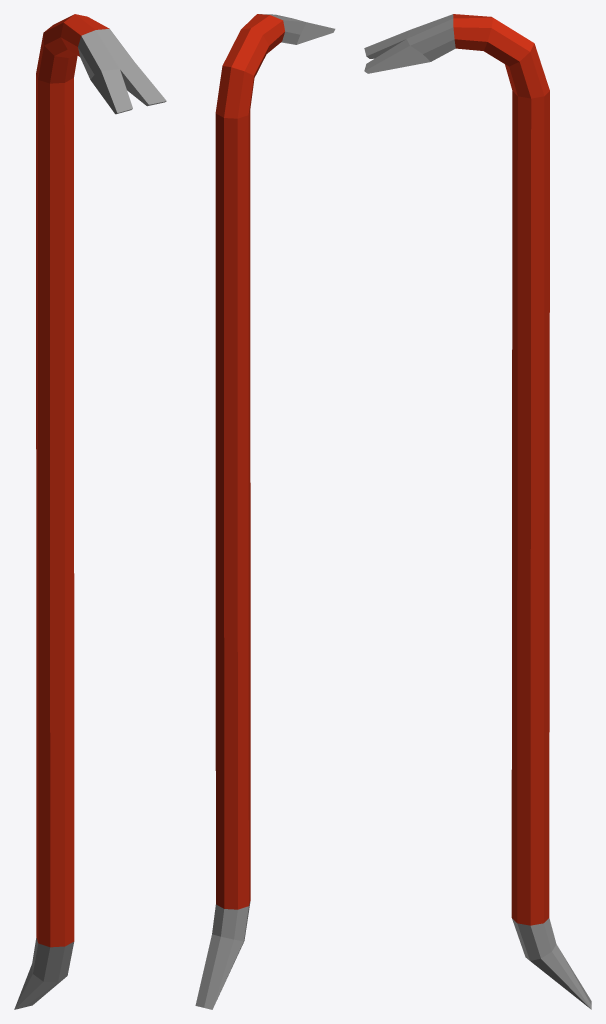
The model's file is crowbar_2.fbx.
3 views of the same model, side by side, from view 1: azimuth 30°, elevation 25°; view 2: azimuth 150°, elevation 25°; view 3: azimuth 270°, elevation 25° (orthographic). The views are drawn at different scales.
Parts seen in each view (by area): view 1: crowbar_2; view 2: crowbar_2; view 3: crowbar_2.
Boxes of the visible parts, box(x1,y1,x2,y2) form: crowbar_2: box(14, 14, 166, 1009); crowbar_2: box(195, 14, 335, 1009); crowbar_2: box(364, 14, 591, 1009).
Size of the model in its own units: 8.72 by 174 by 36.2.
1 material, 1 textured.
